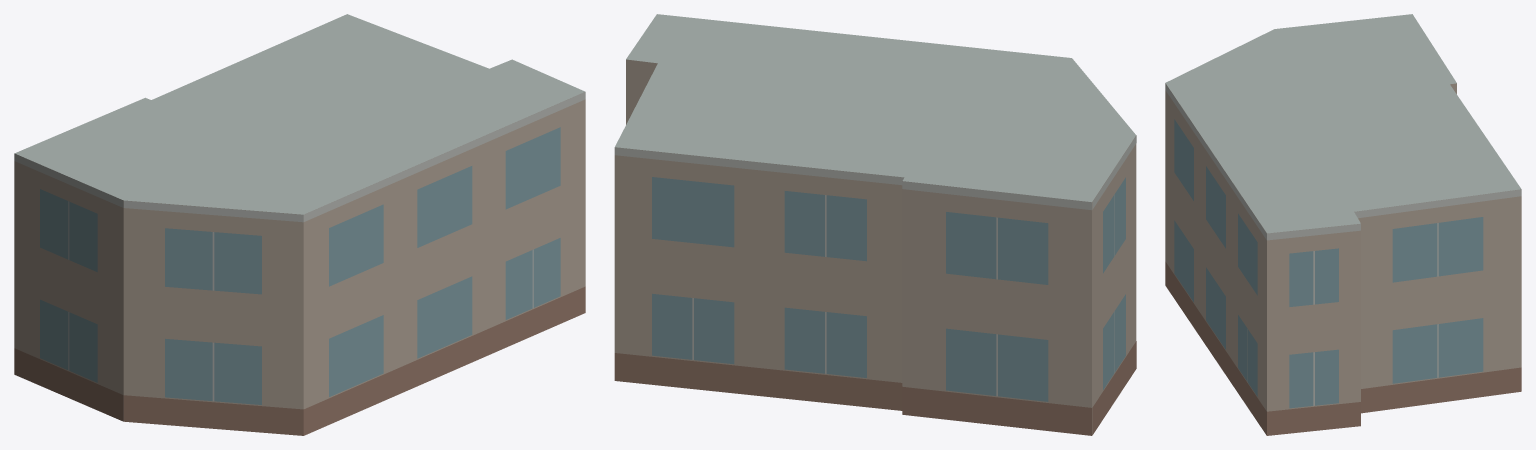
The model's file is survey-upis-32494807.glb.
The picture shows the model from 3 angles, left to right: view 1: azimuth 30°, elevation 25°; view 2: azimuth 150°, elevation 25°; view 3: azimuth 270°, elevation 25°; orthographic projection. The views are drawn at different scales.
Visible parts, largest first — view 1: survey-upis-32494807.tmp; view 2: survey-upis-32494807.tmp; view 3: survey-upis-32494807.tmp.
Boxes of the visible parts, x1=… form: survey-upis-32494807.tmp: x1=14, y1=14, x2=585, y2=435; survey-upis-32494807.tmp: x1=614, y1=14, x2=1136, y2=435; survey-upis-32494807.tmp: x1=1165, y1=14, x2=1521, y2=435.
Size of the model in its own units: 16.52 by 7.1 by 11.34.
